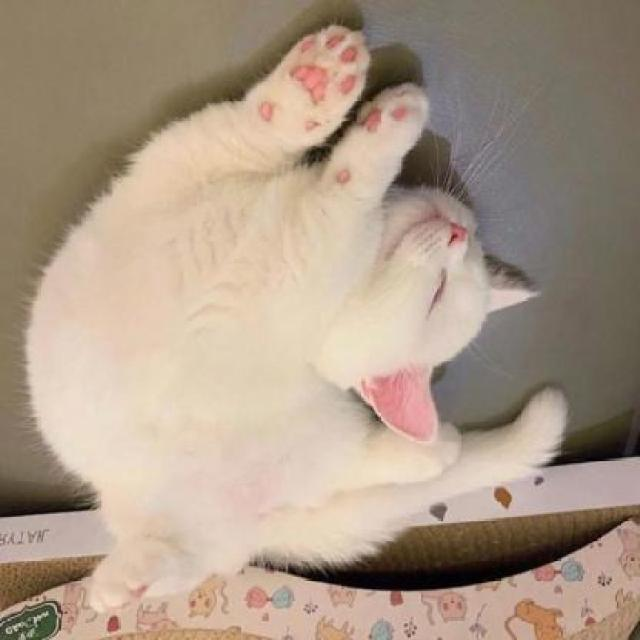cat: (18, 22, 592, 626)
